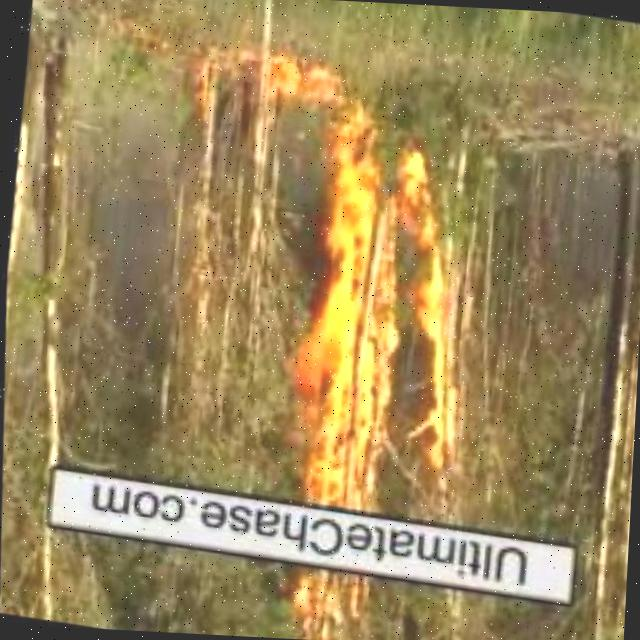fire: (274, 126, 494, 526), (243, 48, 350, 119), (281, 568, 371, 640)
